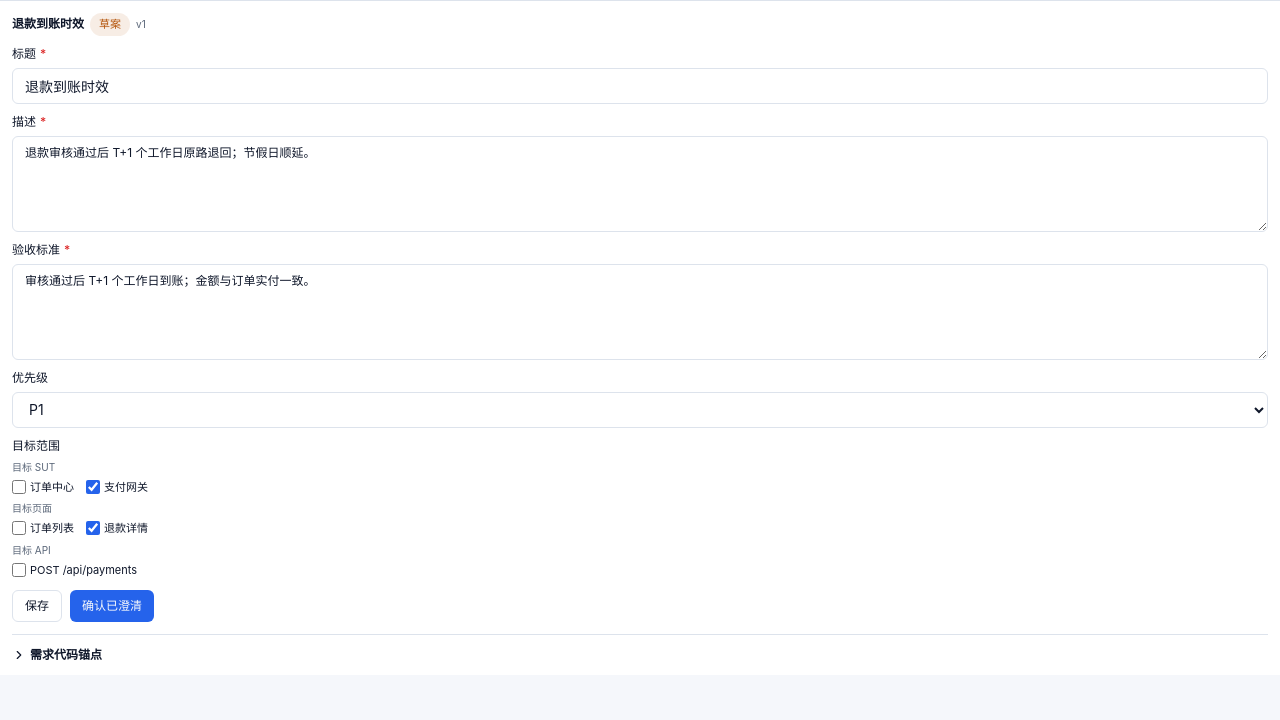
Scenario: RequirementEditor › saves through PATCH and reports the new draft revision
Replace the text in the field with test id "editor-title" with "退款到账时效（补充）" at {"x": 640, "y": 86}, box [12, 68, 1268, 104]
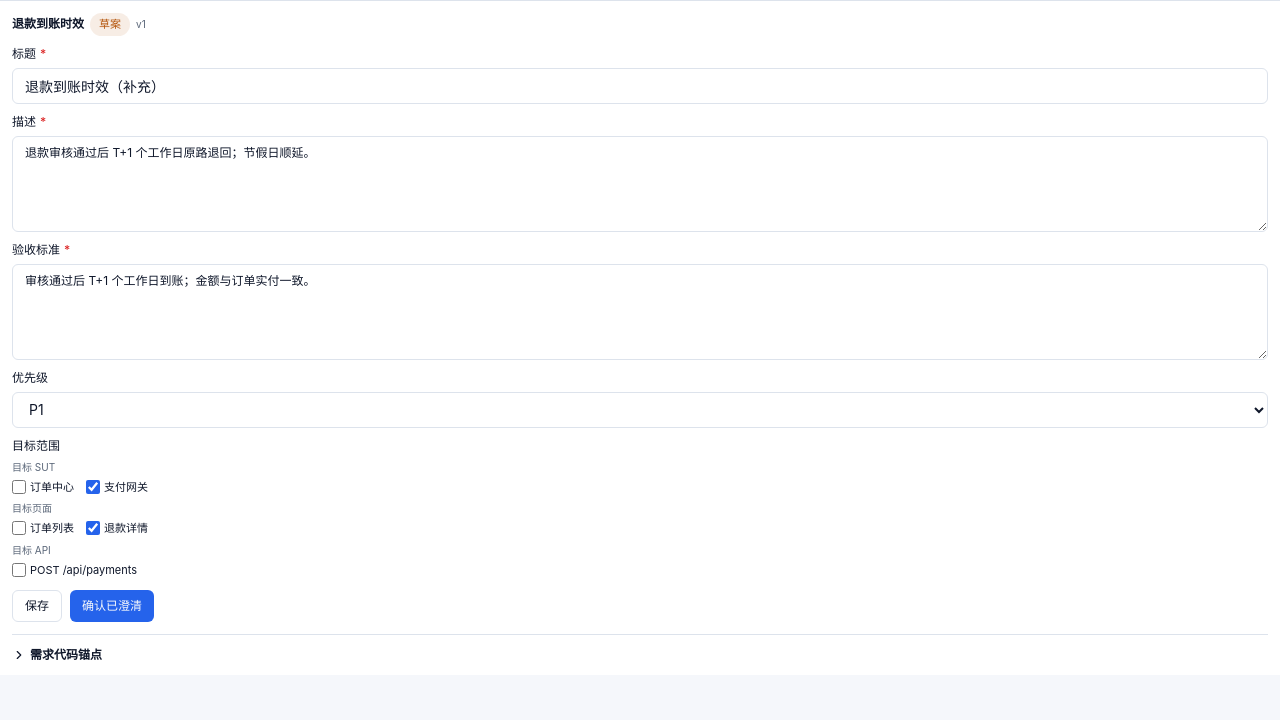
Click the checkbox with test id "editor-target-page-1301".
click(19, 528)  # box [12, 521, 26, 535]
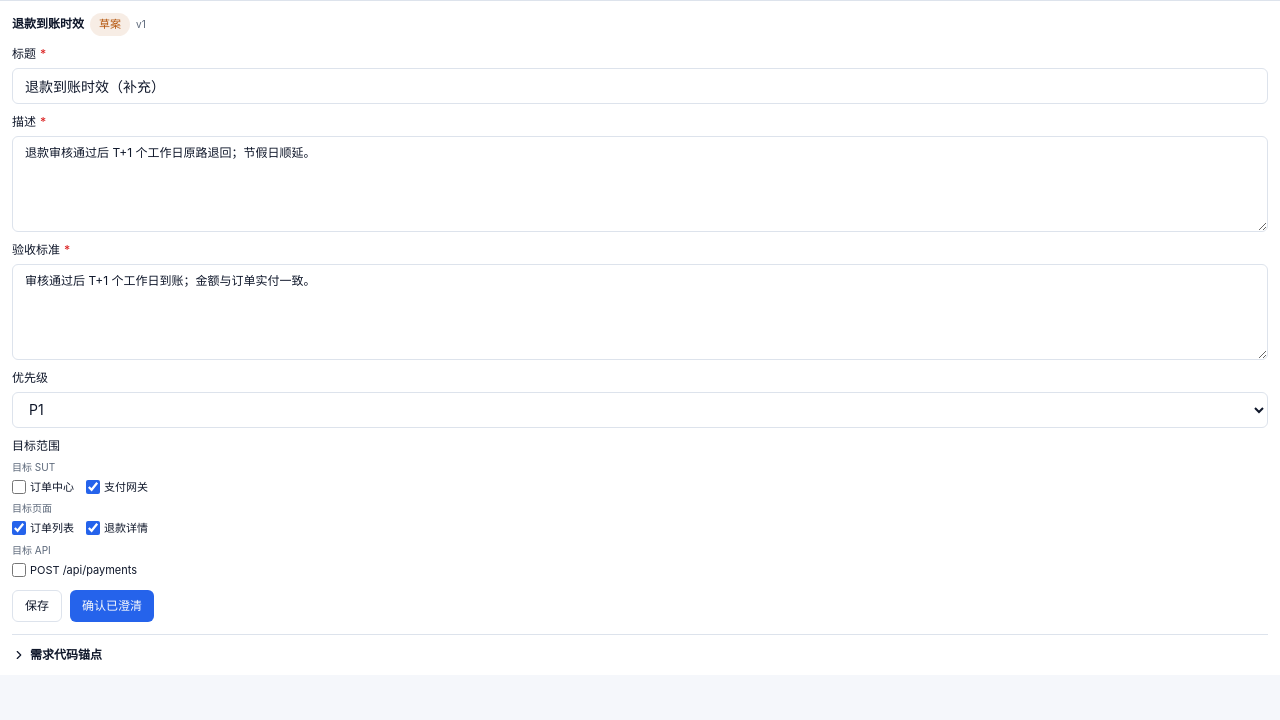
Click the button with test id "editor-save".
click(37, 606)  # box [12, 590, 62, 622]
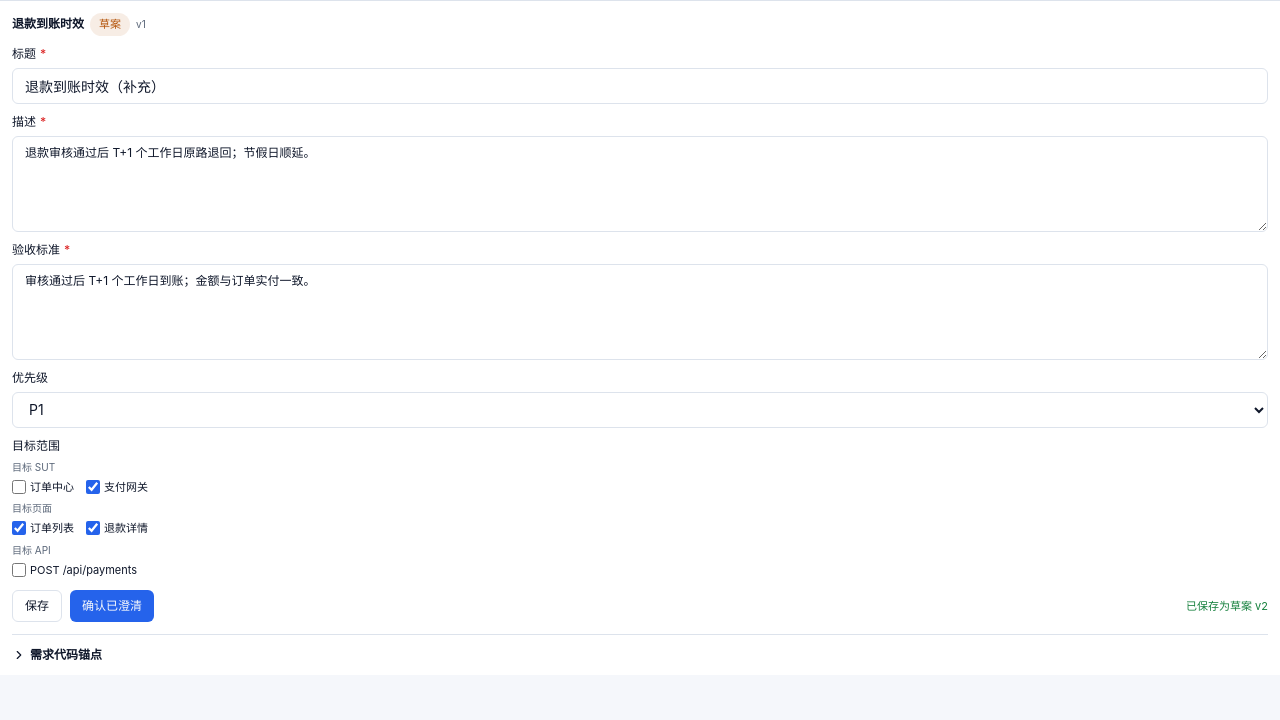
expect the message reads "已保存为草案 v2": met, box [1186, 599, 1268, 613]
